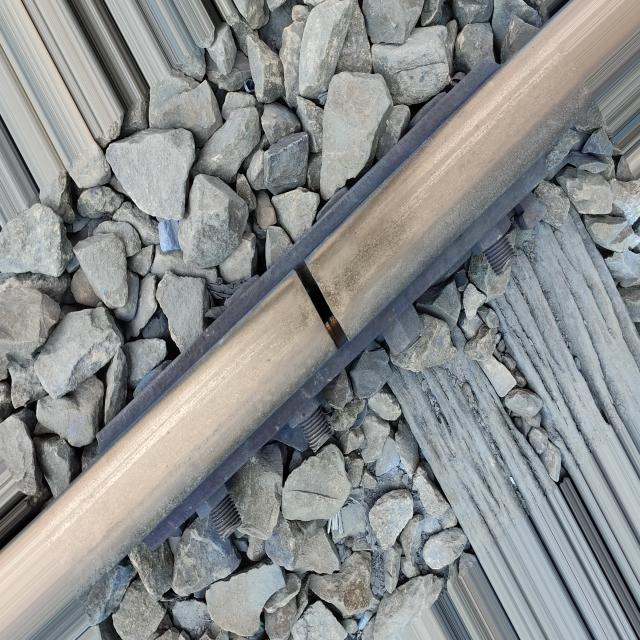crack: (285, 229, 356, 364)
